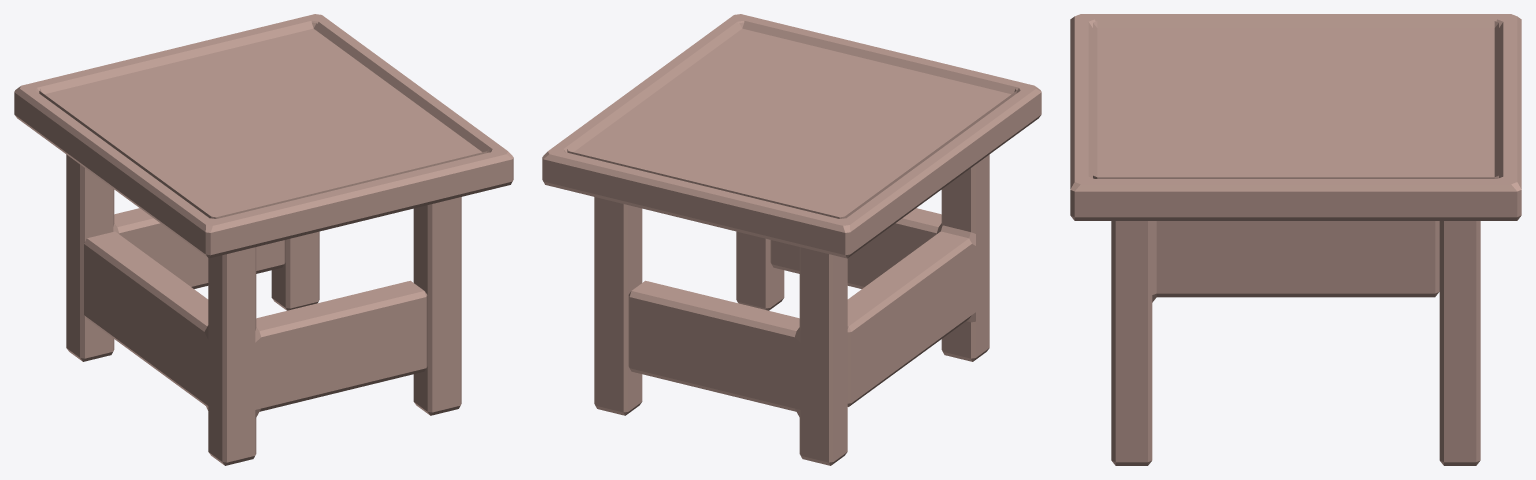
Rendered from sehpa2.fbx.
3 renders of one model, left to right at view 1: azimuth 30°, elevation 25°; view 2: azimuth 150°, elevation 25°; view 3: azimuth 270°, elevation 25°, orthographic. The views are drawn at different scales.
Visible parts, largest first — view 1: Plane; view 2: Plane; view 3: Plane.
Boxes of the visible parts, bbox=[...] form: Plane: bbox=[14, 14, 513, 465]; Plane: bbox=[542, 14, 1041, 465]; Plane: bbox=[1070, 14, 1521, 465].
Bounding box in the file's own units: 131 × 106 × 144.
